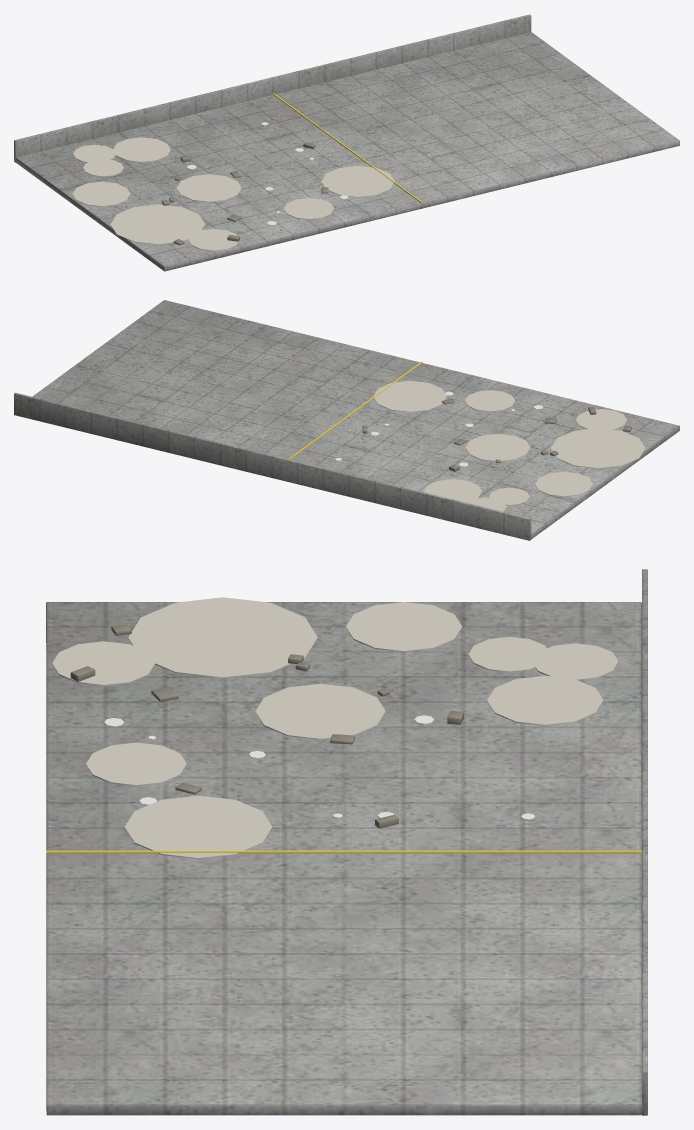
Rendered from LIM-FIN-001_lod1.glb.
The picture shows the model from 3 angles, top to bottom: view 1: azimuth 30°, elevation 25°; view 2: azimuth 150°, elevation 25°; view 3: azimuth 270°, elevation 25°; orthographic projection. The views are drawn at different scales.
Visible parts, largest first — view 1: LIM-FIN-001_piso, LIM-FIN-001_rodape, LIM-FIN-001_poeira7, LIM-FIN-001_poeira2, LIM-FIN-001_poeira3, LIM-FIN-001_poeira8, LIM-FIN-001_poeira6, LIM-FIN-001_poeira1, LIM-FIN-001_poeira5, LIM-FIN-001_poeira0, LIM-FIN-001_poeira4, LIM-FIN-001_divisa; view 2: LIM-FIN-001_piso, LIM-FIN-001_rodape, LIM-FIN-001_poeira7, LIM-FIN-001_poeira2, LIM-FIN-001_poeira3, LIM-FIN-001_poeira8, LIM-FIN-001_poeira6, LIM-FIN-001_poeira1, LIM-FIN-001_poeira5, LIM-FIN-001_poeira4; view 3: LIM-FIN-001_piso, LIM-FIN-001_poeira7, LIM-FIN-001_poeira2, LIM-FIN-001_poeira3, LIM-FIN-001_poeira6, LIM-FIN-001_poeira8, LIM-FIN-001_poeira1, LIM-FIN-001_rodape, LIM-FIN-001_poeira5, LIM-FIN-001_poeira0, LIM-FIN-001_divisa, LIM-FIN-001_poeira4.
Part boxes in pixels (x1=…): LIM-FIN-001_piso: x1=15, y1=32, x2=679, y2=271; LIM-FIN-001_rodape: x1=14, y1=14, x2=531, y2=162; LIM-FIN-001_poeira7: x1=110, y1=204, x2=205, y2=244; LIM-FIN-001_poeira2: x1=321, y1=166, x2=395, y2=197; LIM-FIN-001_poeira3: x1=176, y1=174, x2=241, y2=202; LIM-FIN-001_poeira8: x1=72, y1=181, x2=130, y2=206; LIM-FIN-001_poeira6: x1=113, y1=137, x2=170, y2=162; LIM-FIN-001_poeira1: x1=284, y1=198, x2=334, y2=219; LIM-FIN-001_poeira5: x1=188, y1=229, x2=239, y2=250; LIM-FIN-001_poeira0: x1=73, y1=144, x2=115, y2=162; LIM-FIN-001_poeira4: x1=83, y1=160, x2=123, y2=176; LIM-FIN-001_divisa: x1=273, y1=93, x2=422, y2=203; LIM-FIN-001_piso: x1=32, y1=300, x2=679, y2=539; LIM-FIN-001_rodape: x1=14, y1=392, x2=531, y2=540; LIM-FIN-001_poeira7: x1=550, y1=428, x2=645, y2=468; LIM-FIN-001_poeira2: x1=373, y1=380, x2=446, y2=412; LIM-FIN-001_poeira3: x1=465, y1=433, x2=530, y2=461; LIM-FIN-001_poeira8: x1=535, y1=471, x2=592, y2=496; LIM-FIN-001_poeira6: x1=424, y1=479, x2=482, y2=502; LIM-FIN-001_poeira1: x1=465, y1=390, x2=515, y2=411; LIM-FIN-001_poeira5: x1=575, y1=409, x2=627, y2=429; LIM-FIN-001_poeira4: x1=489, y1=487, x2=529, y2=505; LIM-FIN-001_piso: x1=46, y1=602, x2=641, y2=1115; LIM-FIN-001_poeira7: x1=128, y1=597, x2=317, y2=678; LIM-FIN-001_poeira2: x1=124, y1=795, x2=272, y2=858; LIM-FIN-001_poeira3: x1=255, y1=683, x2=385, y2=739; LIM-FIN-001_poeira6: x1=487, y1=675, x2=603, y2=725; LIM-FIN-001_poeira8: x1=346, y1=602, x2=462, y2=651; LIM-FIN-001_poeira1: x1=86, y1=742, x2=186, y2=786; LIM-FIN-001_rodape: x1=642, y1=569, x2=647, y2=1115; LIM-FIN-001_poeira5: x1=52, y1=641, x2=155, y2=685; LIM-FIN-001_poeira0: x1=532, y1=643, x2=618, y2=680; LIM-FIN-001_divisa: x1=46, y1=850, x2=641, y2=853; LIM-FIN-001_poeira4: x1=468, y1=637, x2=546, y2=672.
Size of the model in its own units: 2.01 by 0.08 by 1.01.
Materials: 5 (2 with a texture image).
